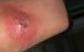Spider: (2, 14, 35, 39)
